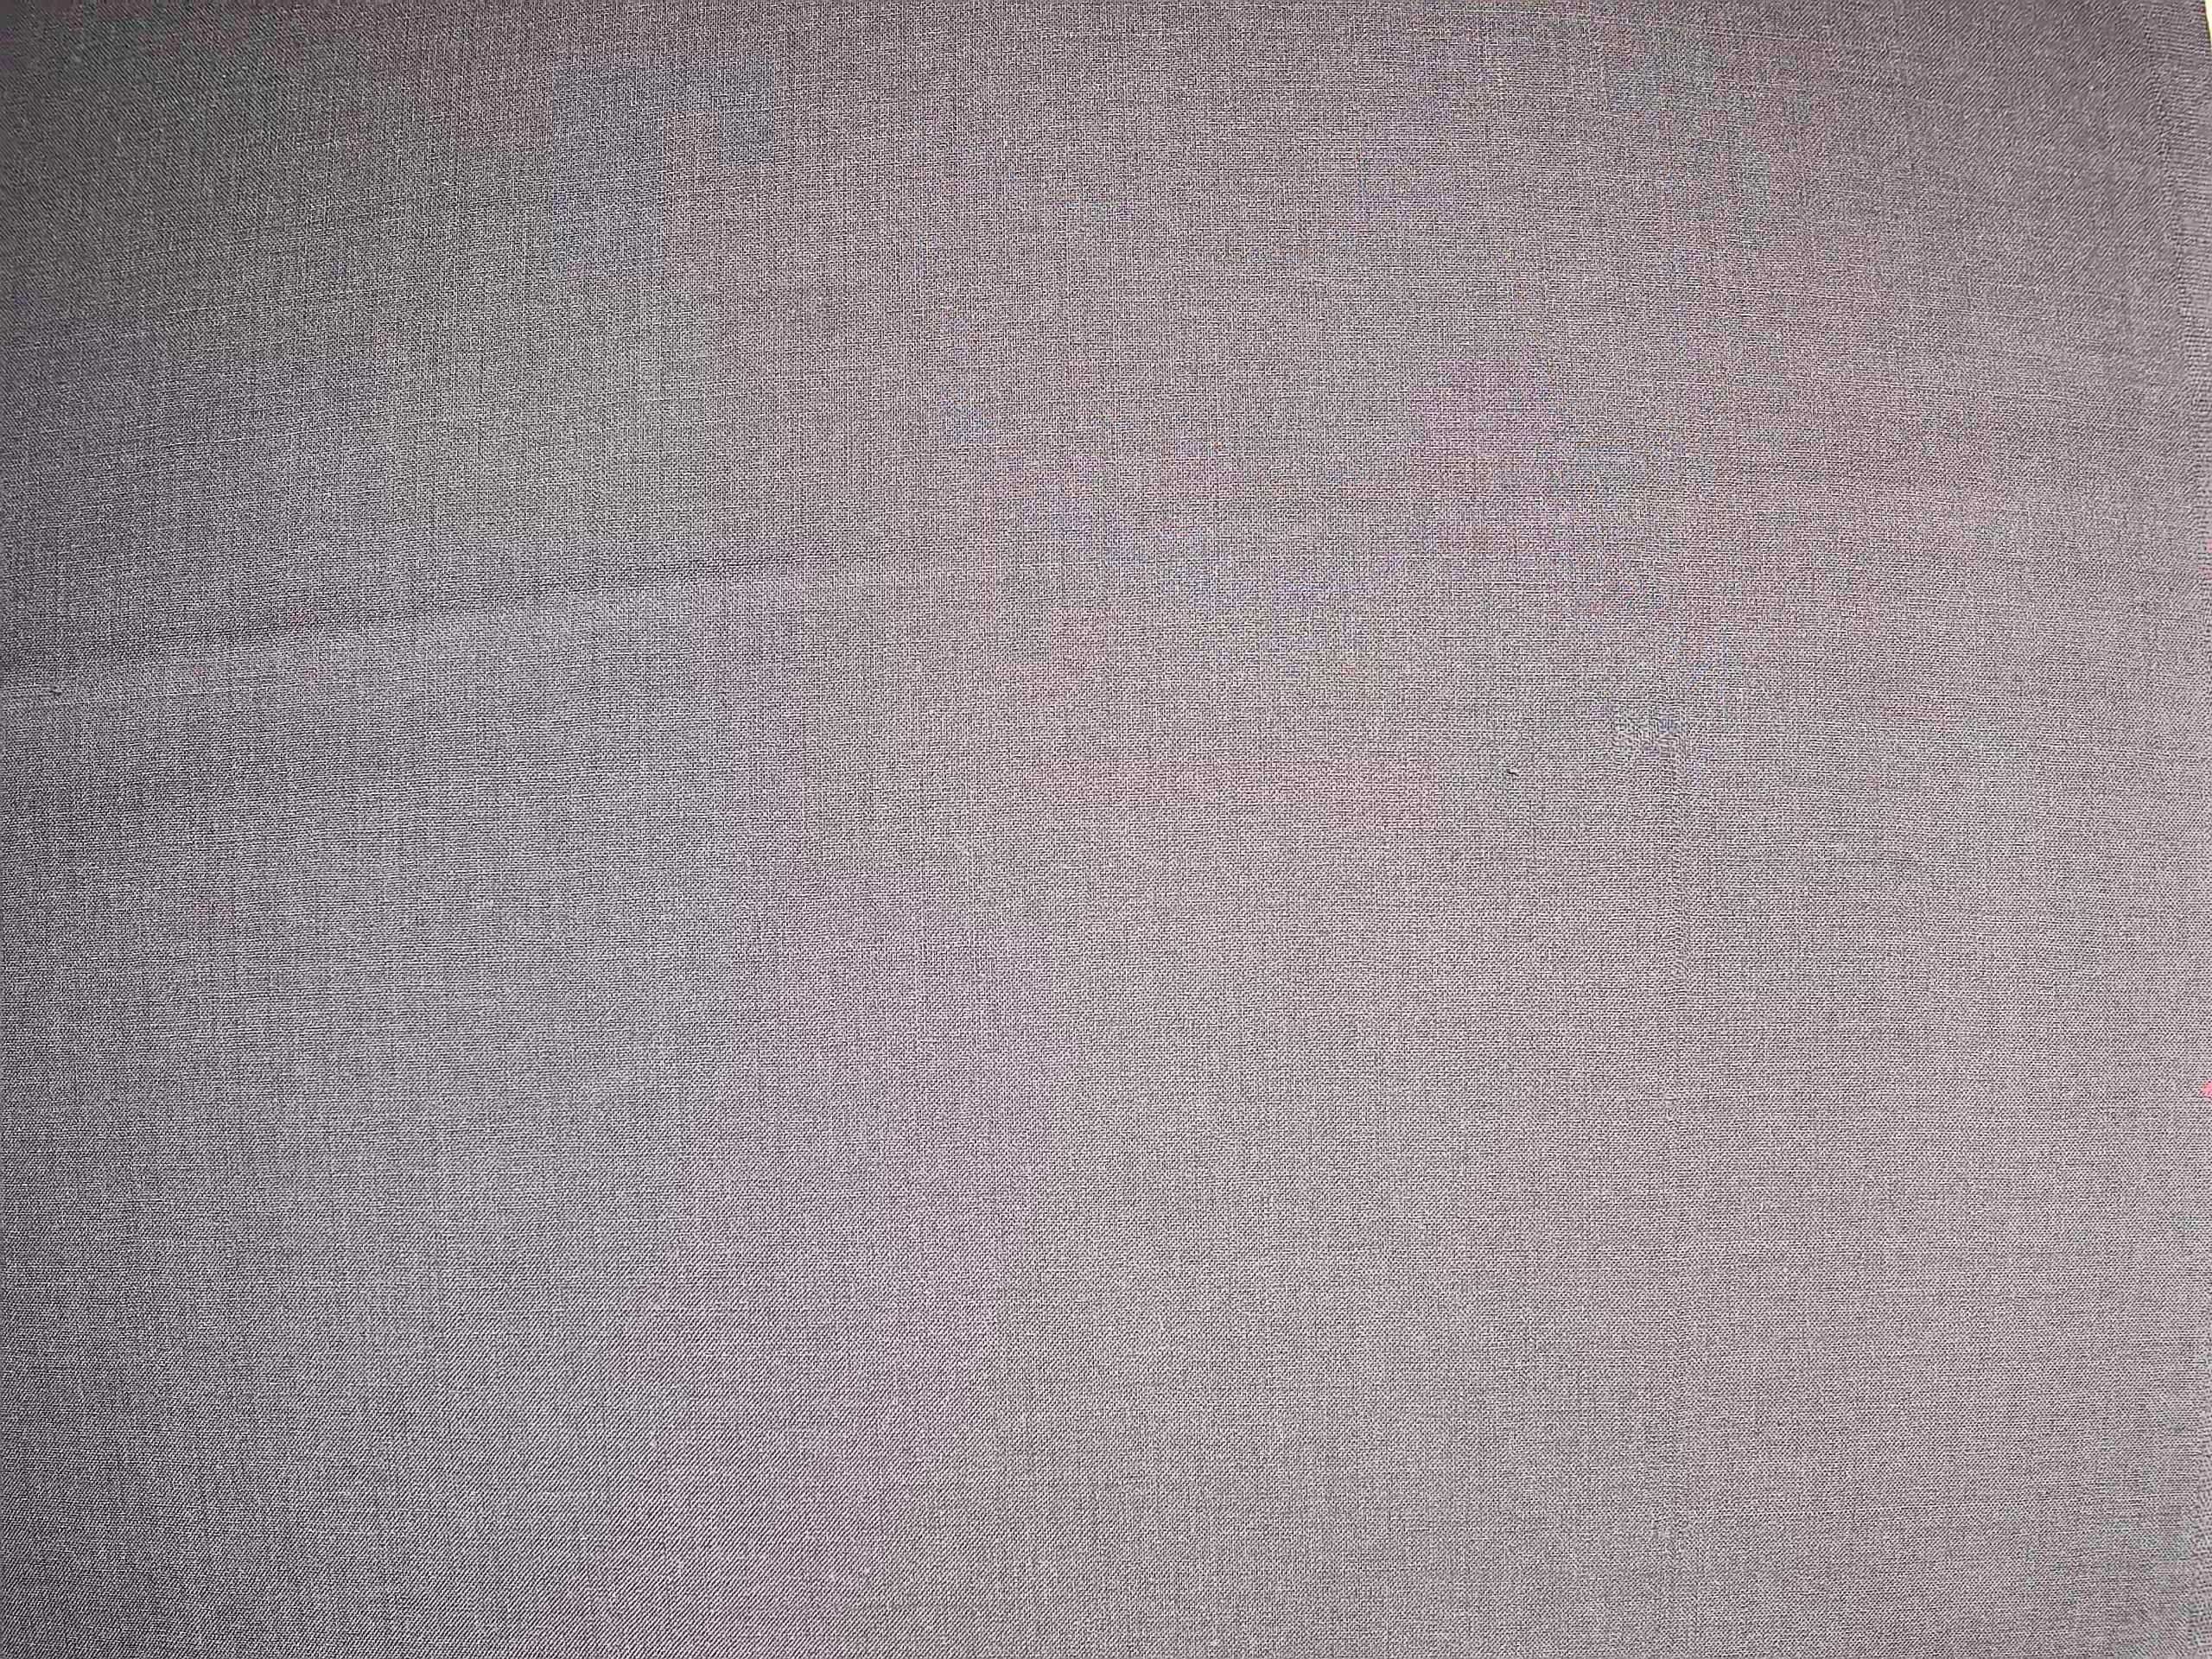knots: (1578, 687, 1712, 788)
